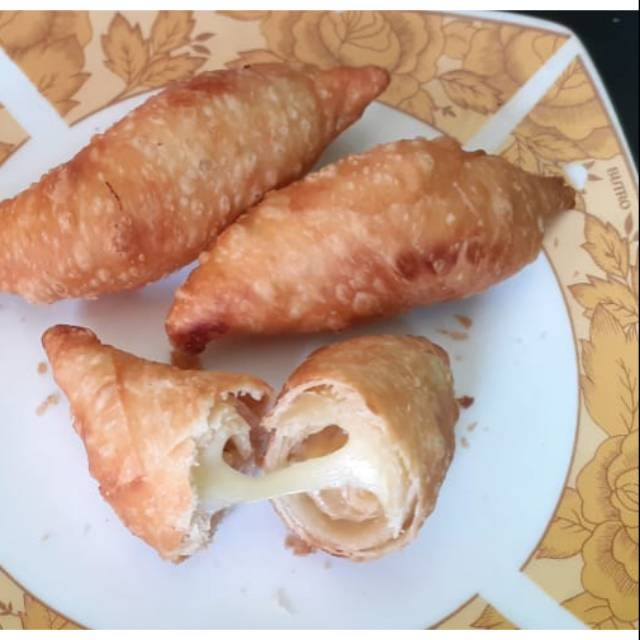pisang_molen: (0, 59, 390, 320), (167, 135, 580, 368)
